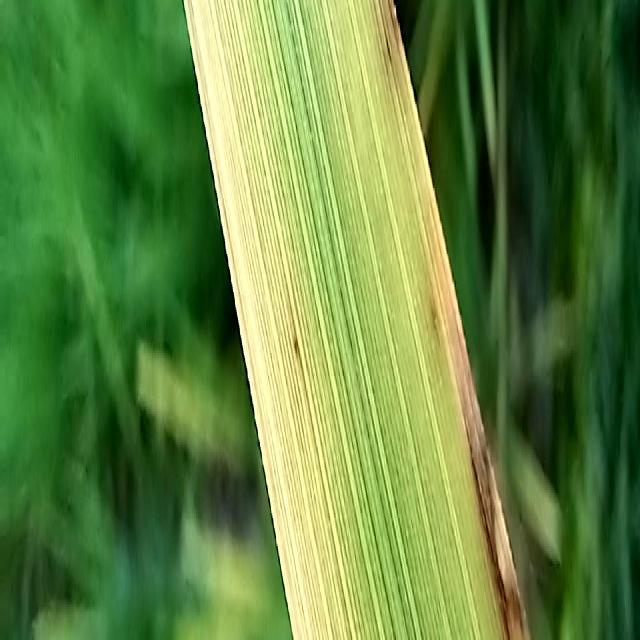LEAF BLAST: (433, 201, 529, 640)
